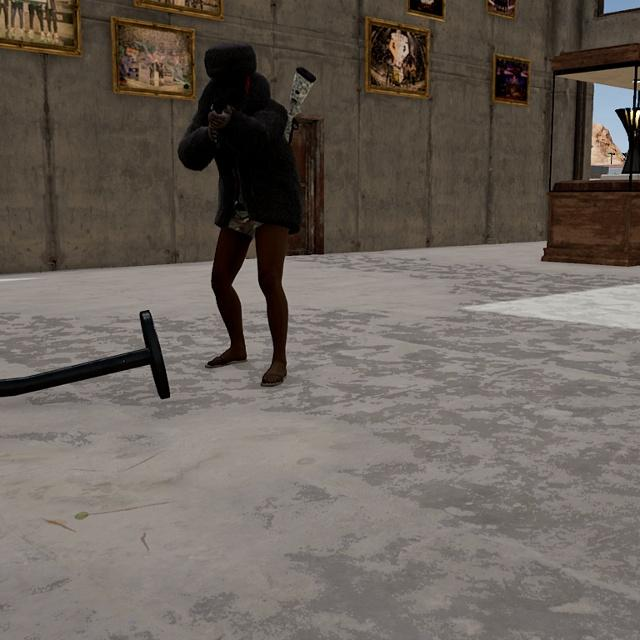head: (202, 44, 264, 106)
people: (175, 41, 294, 390)
